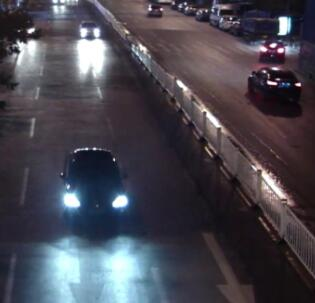car: (58, 146, 132, 228), (245, 64, 305, 102), (11, 10, 37, 39), (255, 37, 289, 59), (75, 18, 101, 41), (210, 4, 228, 26), (218, 14, 238, 30), (144, 2, 164, 17)
